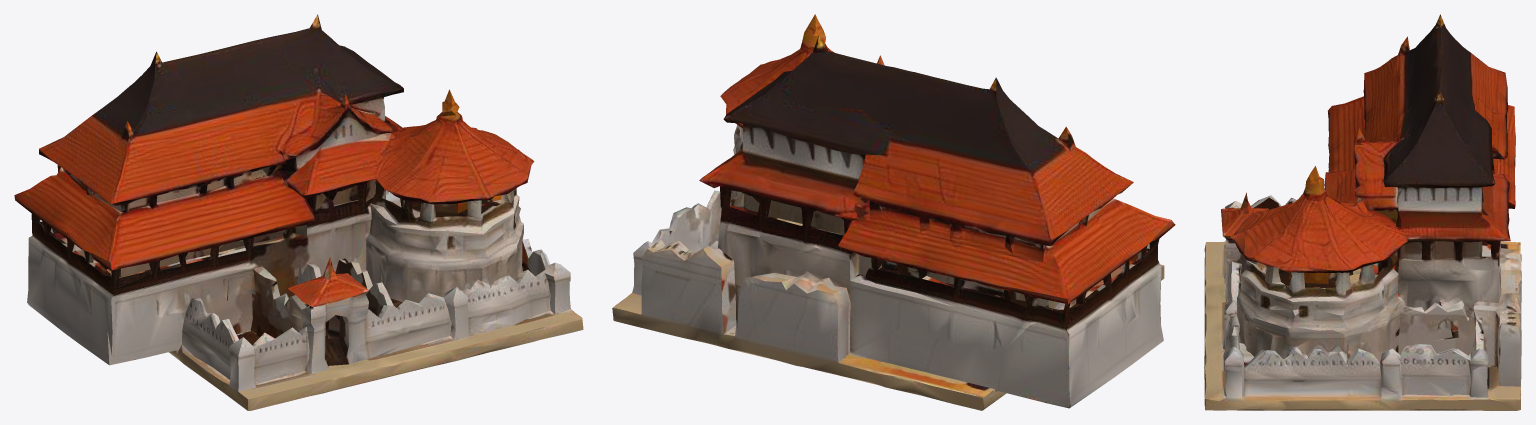
The model's file is temple-of-the-tooth.glb.
3 views of the same model, side by side, from view 1: azimuth 30°, elevation 25°; view 2: azimuth 150°, elevation 25°; view 3: azimuth 270°, elevation 25° (orthographic). The views are drawn at different scales.
Visible parts, largest first — view 1: logan-textured.obj; view 2: logan-textured.obj; view 3: logan-textured.obj.
Part boxes in pixels (<box>): logan-textured.obj: <box>14,14,583,410</box>; logan-textured.obj: <box>612,14,1175,410</box>; logan-textured.obj: <box>1204,14,1521,410</box>.
Size of the model in its own units: 1 by 0.6153 by 0.6974.
Materials: 1 (1 with a texture image).
